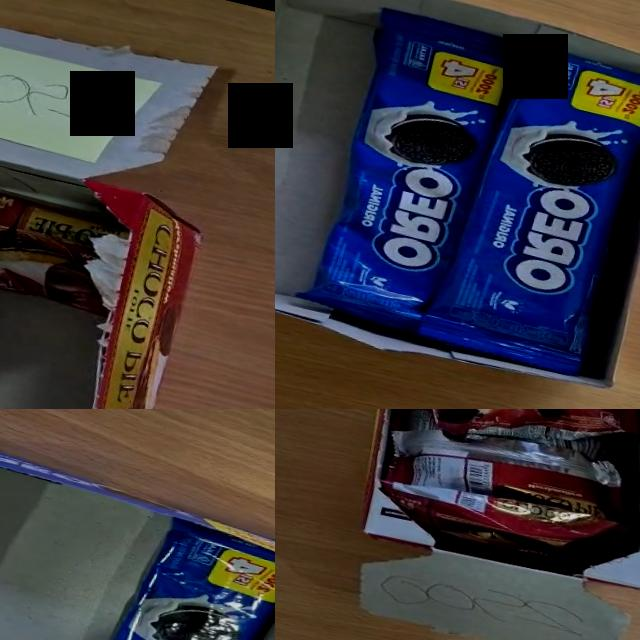Chocopie: (368, 467, 632, 589), (379, 409, 636, 532), (0, 180, 132, 318), (404, 409, 640, 478)
Oreo: (292, 1, 526, 342), (414, 30, 640, 382), (33, 497, 275, 640)
